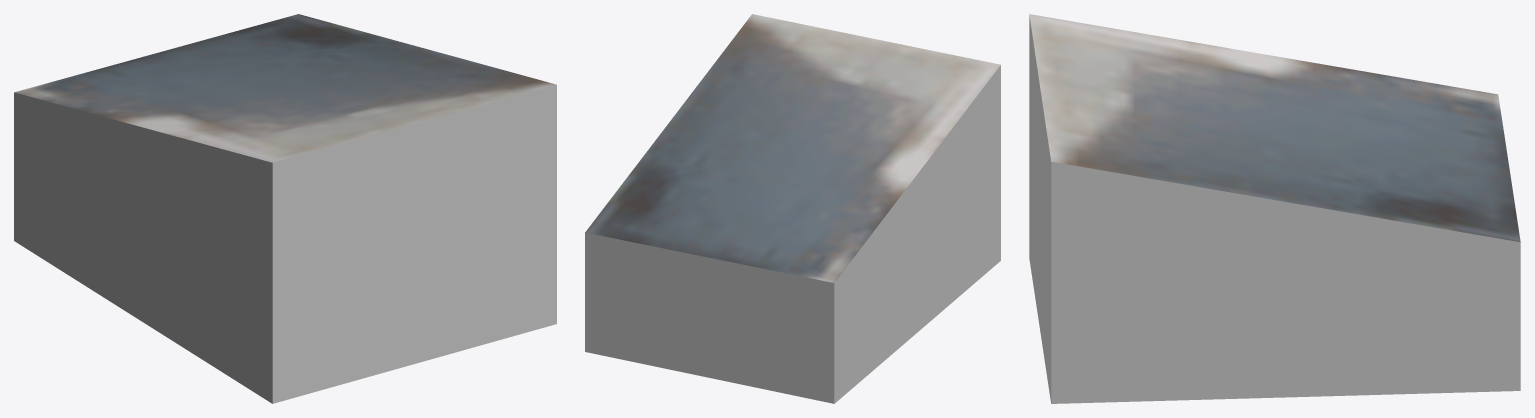
Rendered from DEBW_0010007Txad.gltf.
The picture shows the model from 3 angles, left to right: view 1: azimuth 30°, elevation 25°; view 2: azimuth 150°, elevation 25°; view 3: azimuth 270°, elevation 25°; orthographic projection. The views are drawn at different scales.
Visible parts, largest first — view 1: Z_UP; view 2: Z_UP; view 3: Z_UP.
Boxes of the visible parts, bbox=[...] form: Z_UP: bbox=[14, 14, 556, 403]; Z_UP: bbox=[585, 14, 1000, 403]; Z_UP: bbox=[1029, 14, 1520, 403].
Size of the model in its own units: 6.71 by 4.8 by 8.76.
2 materials, 1 textured.
